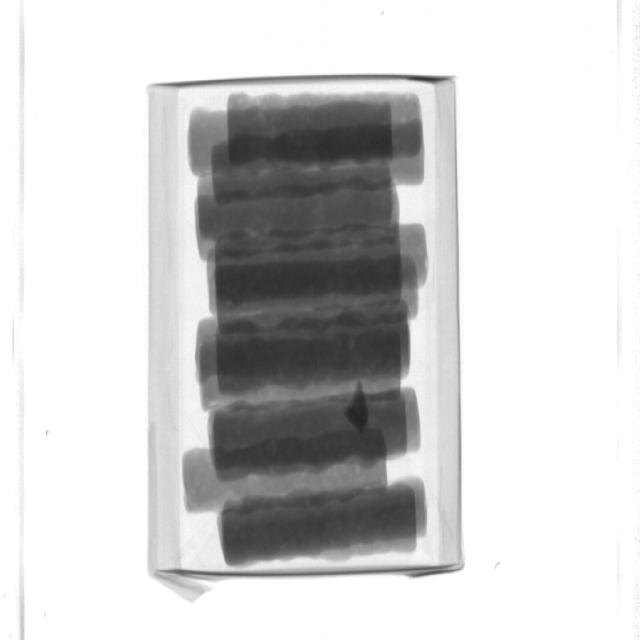ym: (346, 387, 370, 434)
